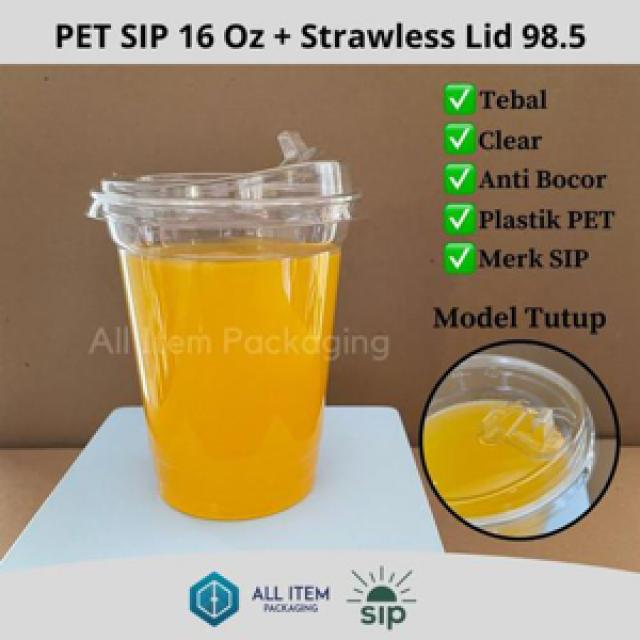plastic cup: (81, 128, 365, 525)
